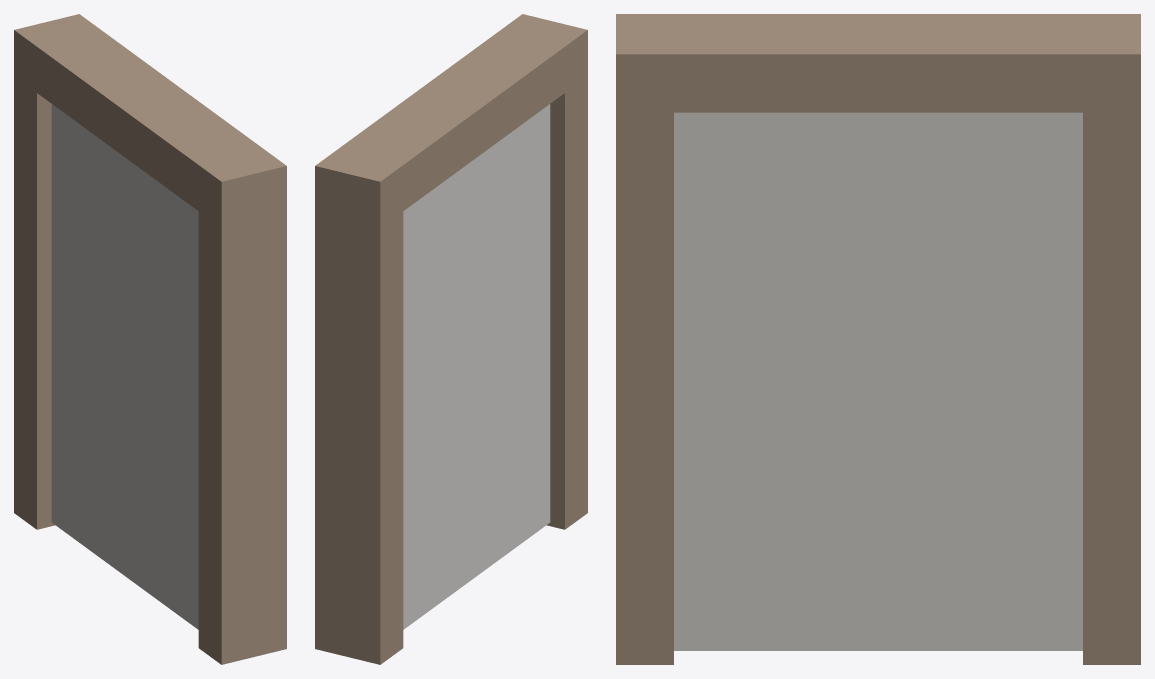
The model's file is Wall_house01.obj.
3 renders of one model, left to right at view 1: azimuth 30°, elevation 25°; view 2: azimuth 150°, elevation 25°; view 3: azimuth 270°, elevation 25°, orthographic. The views are drawn at different scales.
Visible parts, largest first — view 1: Wall01_House01_Cube; view 2: Wall01_House01_Cube; view 3: Wall01_House01_Cube.
Boxes of the visible parts, x1,y1,x2,y2 form: Wall01_House01_Cube: (14,14,286,664); Wall01_House01_Cube: (315,14,587,664); Wall01_House01_Cube: (616,14,1140,664).
Bounding box in the file's own units: 0.468 × 3.31 × 2.58.
